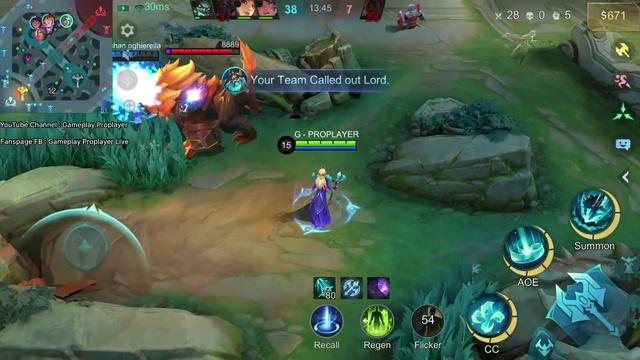bush: (238, 132, 640, 360), (54, 53, 142, 167)
hp_self: (296, 141, 357, 145)
red_baff: (119, 7, 361, 73)
